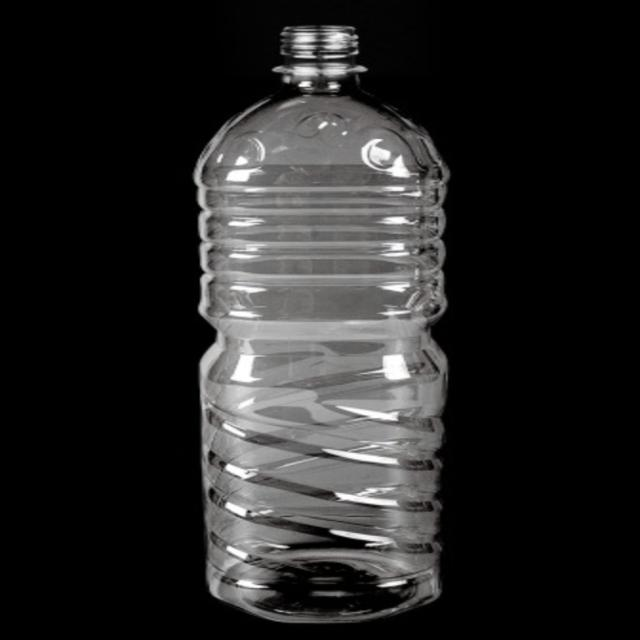recyclable: (164, 16, 491, 630)
